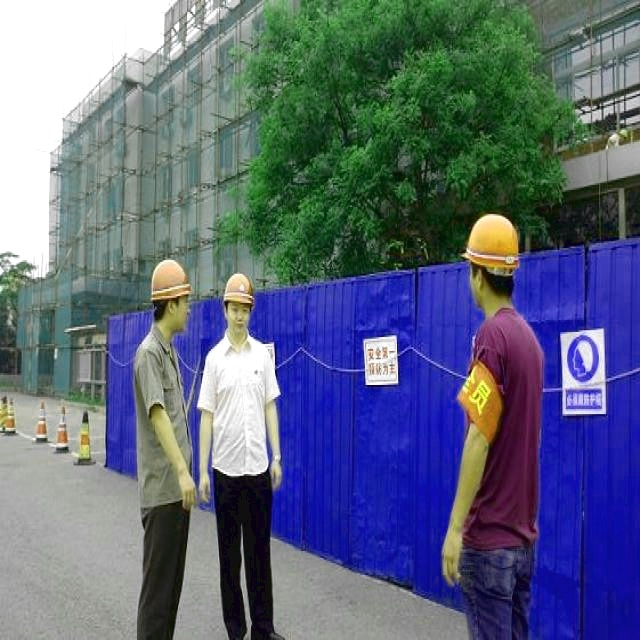Sin_Chaleco: (460, 309, 544, 535), (199, 333, 281, 481), (132, 333, 195, 503)
